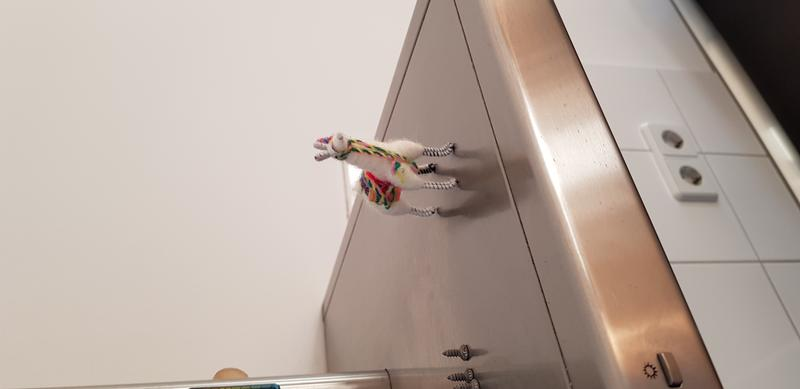Horse-Toy: (307, 128, 482, 228)
